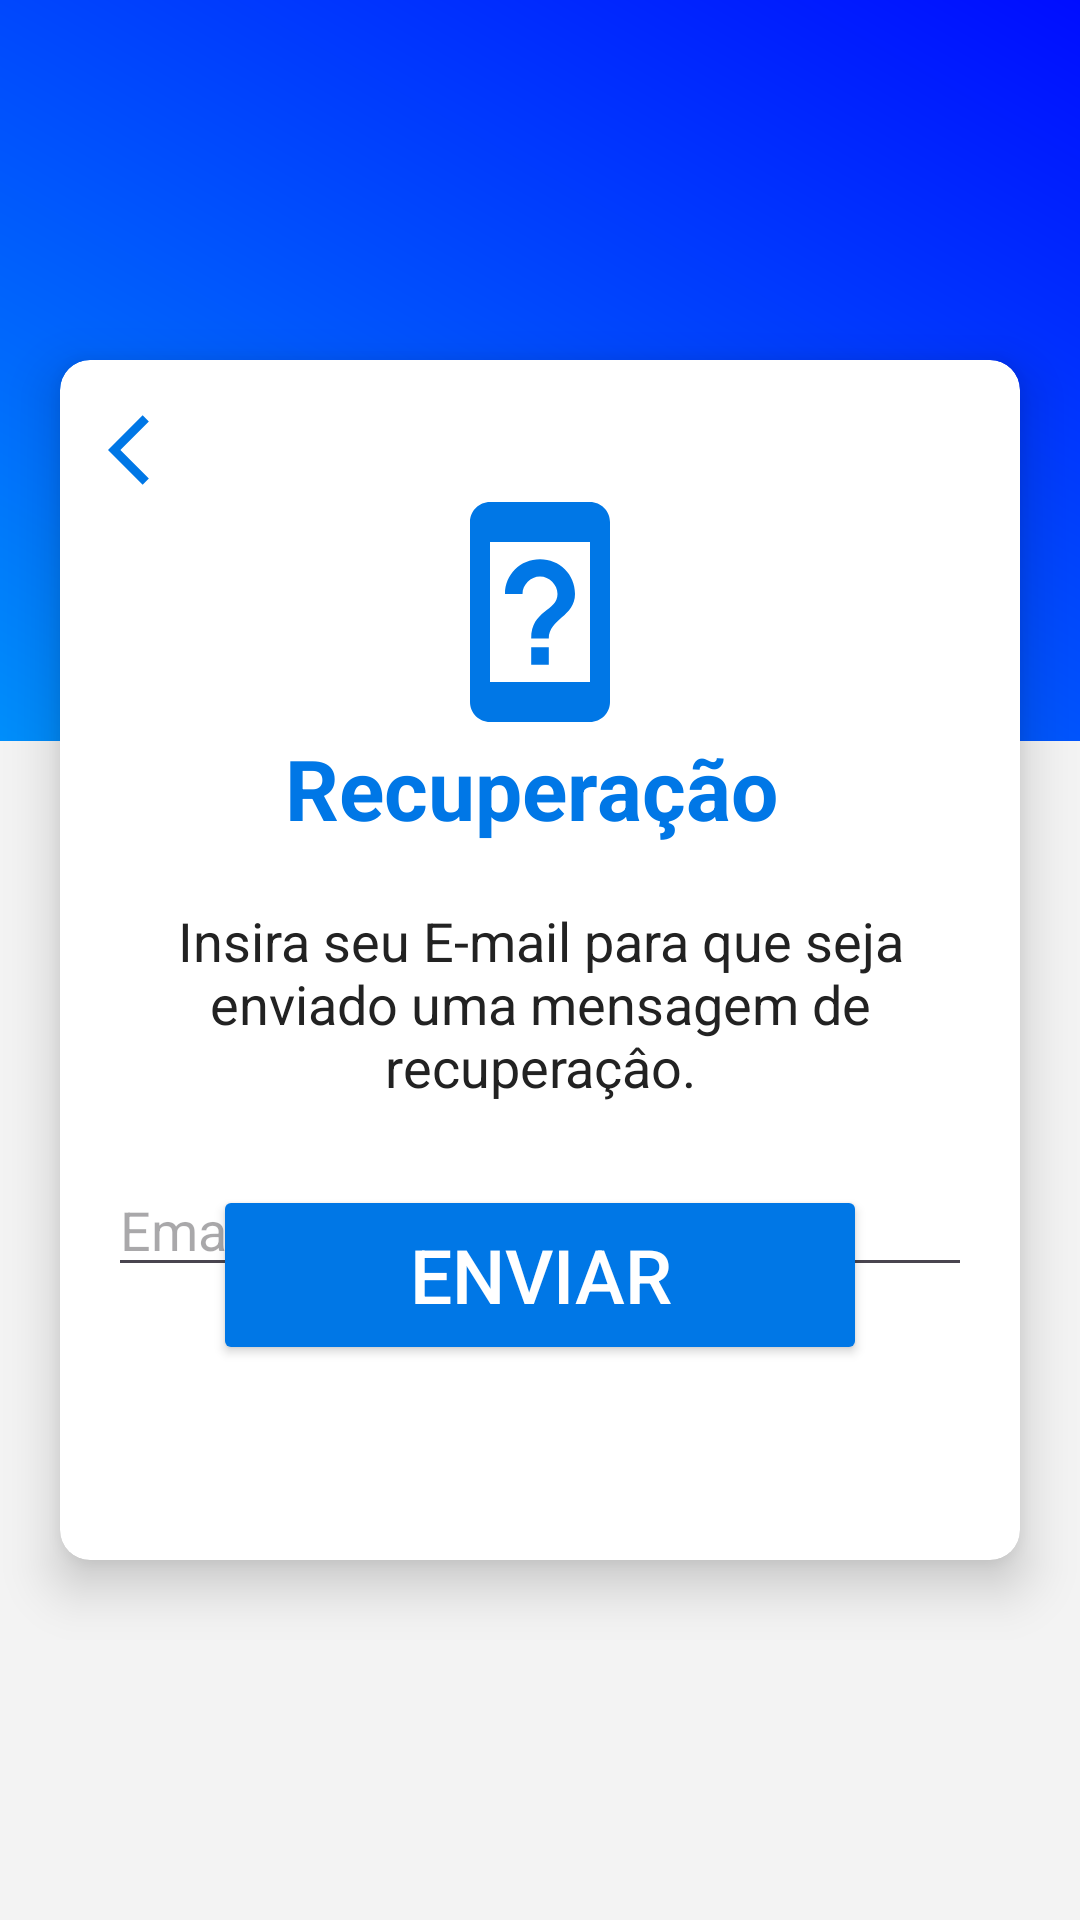

Icons on this 1080 x 1920 Android screen, each with the point to tap as (x=x, y=y):
arrow back: (x=128, y=450)
device unknown: (x=540, y=612)
